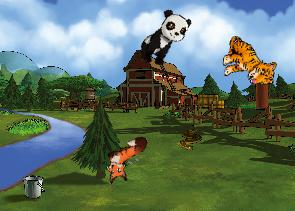fox: (96, 133, 158, 187)
panda: (134, 5, 194, 72)
tiger: (219, 35, 279, 87)
